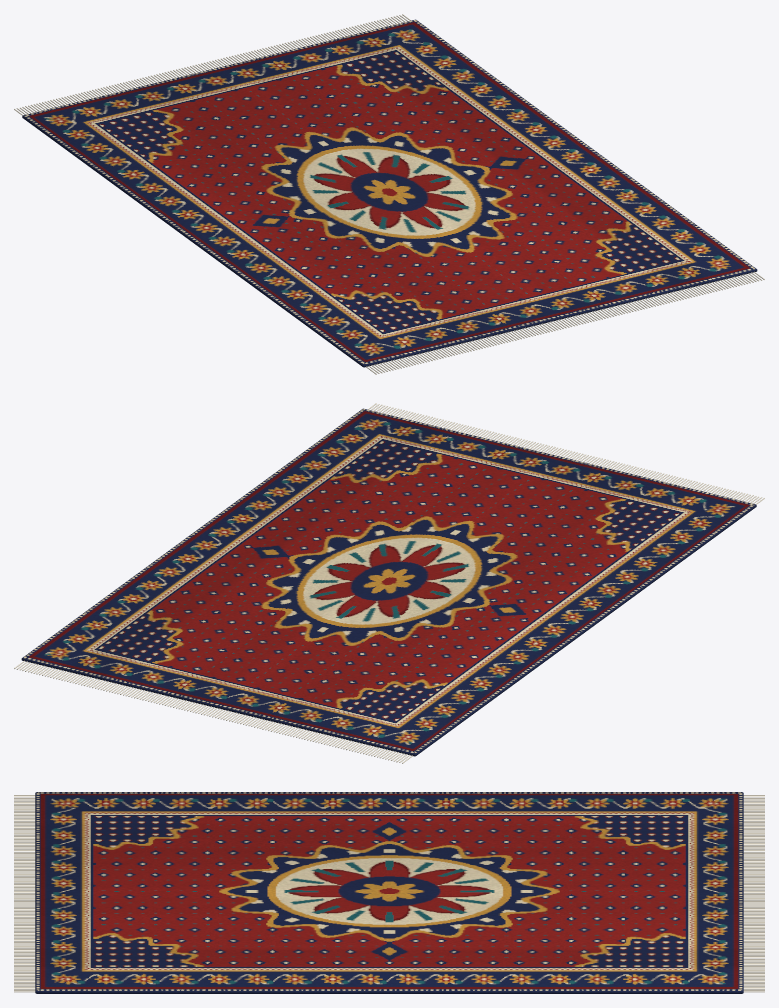
File: RugOriental.fbx
3 views of the same model, one above another, from view 1: azimuth 30°, elevation 25°; view 2: azimuth 150°, elevation 25°; view 3: azimuth 270°, elevation 25° (orthographic). The views are drawn at different scales.
Parts seen in each view (by area): view 1: RugOriental, RugOriental_Fringe; view 2: RugOriental, RugOriental_Fringe; view 3: RugOriental, RugOriental_Fringe.
Boxes of the visible parts, x1=… form: RugOriental: x1=22, y1=19, x2=757, y2=367; RugOriental_Fringe: x1=14, y1=14, x2=764, y2=374; RugOriental: x1=21, y1=408, x2=756, y2=756; RugOriental_Fringe: x1=14, y1=403, x2=764, y2=763; RugOriental: x1=35, y1=792, x2=743, y2=993; RugOriental_Fringe: x1=14, y1=795, x2=764, y2=992.
Bounding box in the file's own units: 2 × 0.014 × 3.18.
Materials: 2 (1 with a texture image).
